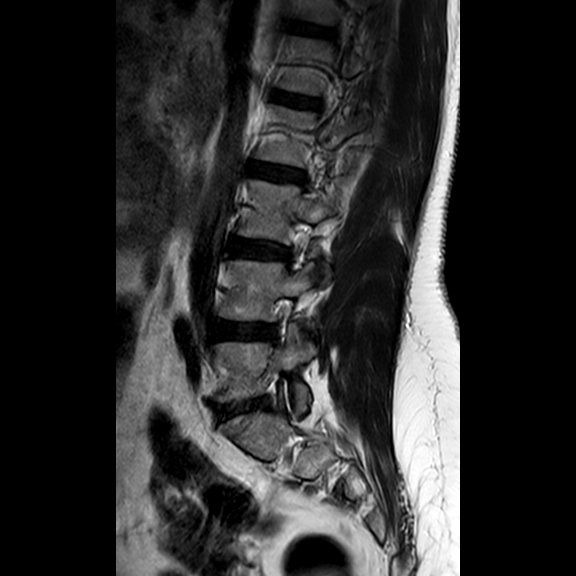RFS0: (273, 214, 319, 281), (257, 289, 300, 355)
